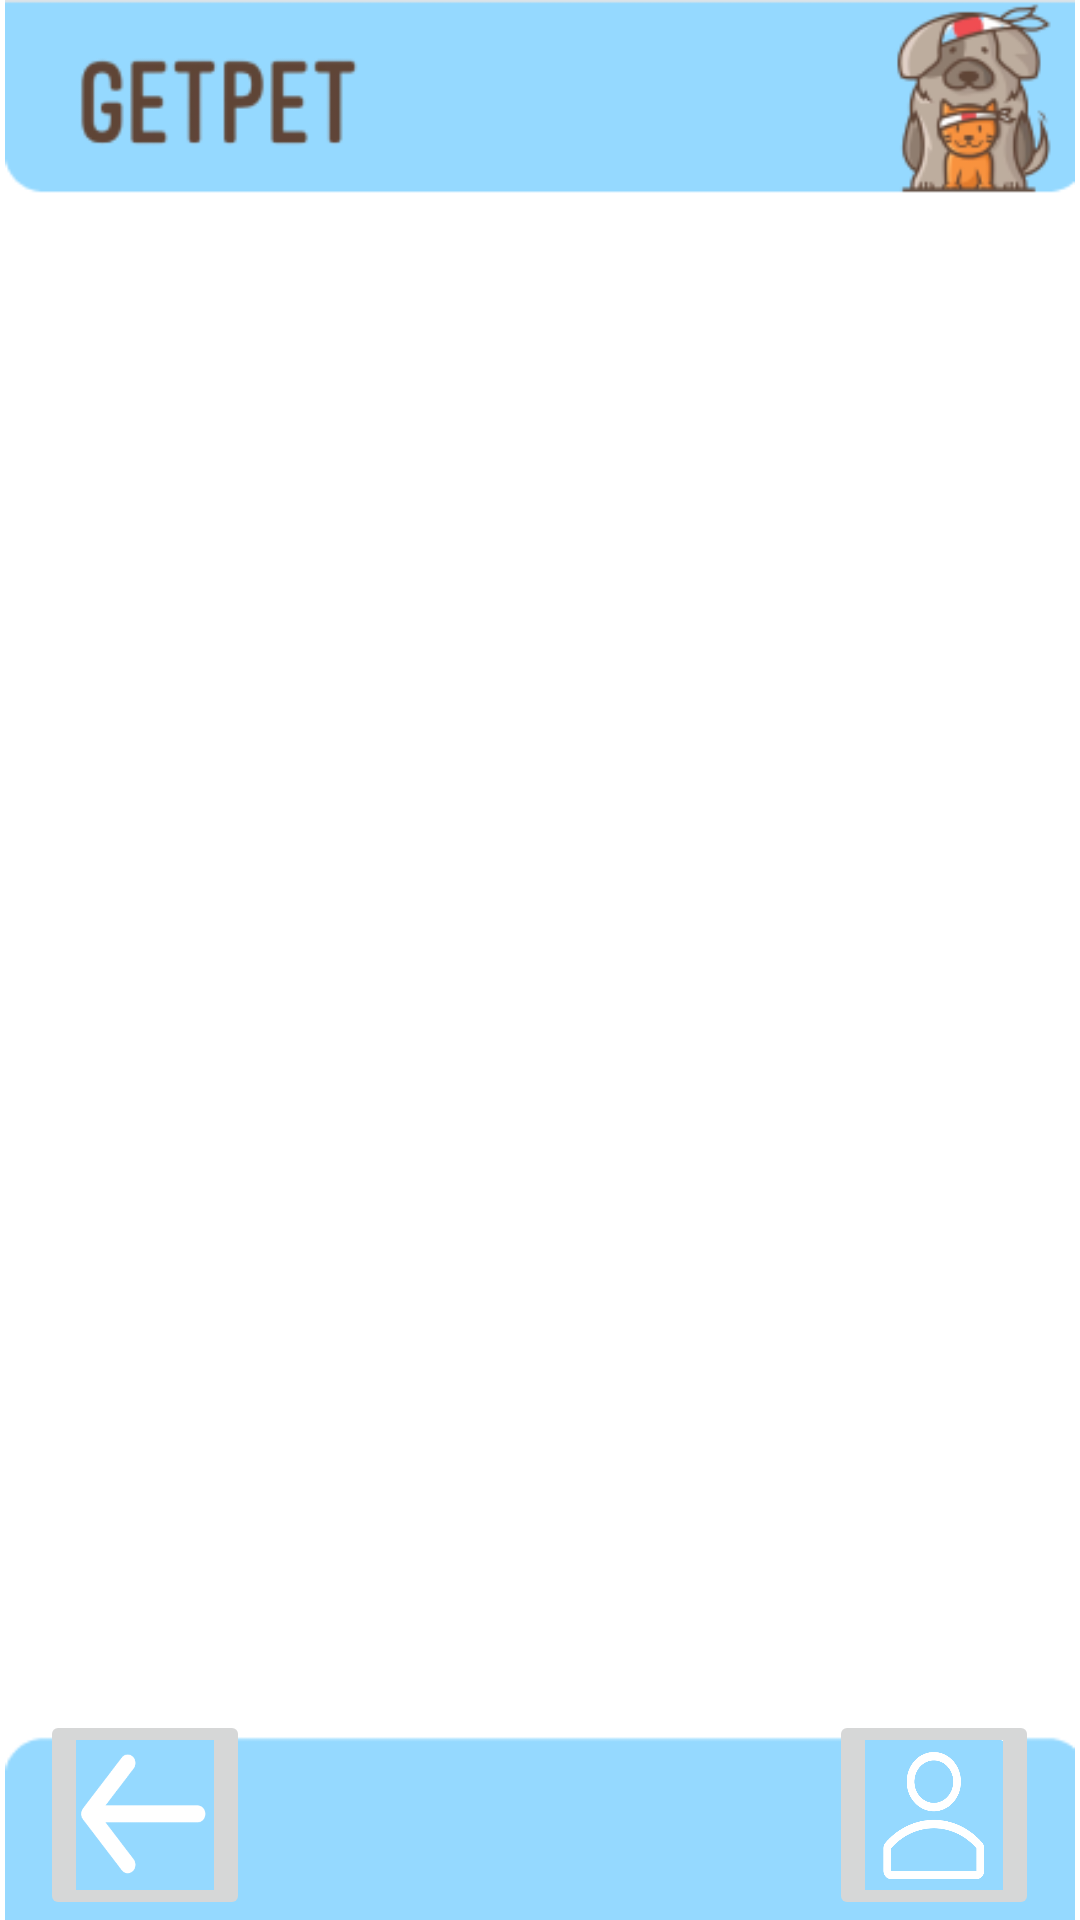

Where to tap for icons on this 1080 x 1920 app screen, as (x=x, y=y):
back: (x=145, y=1815)
profil: (x=934, y=1815)
